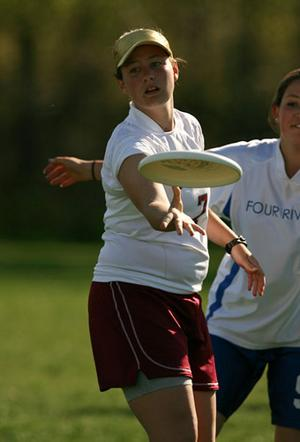person: (88, 28, 266, 442)
